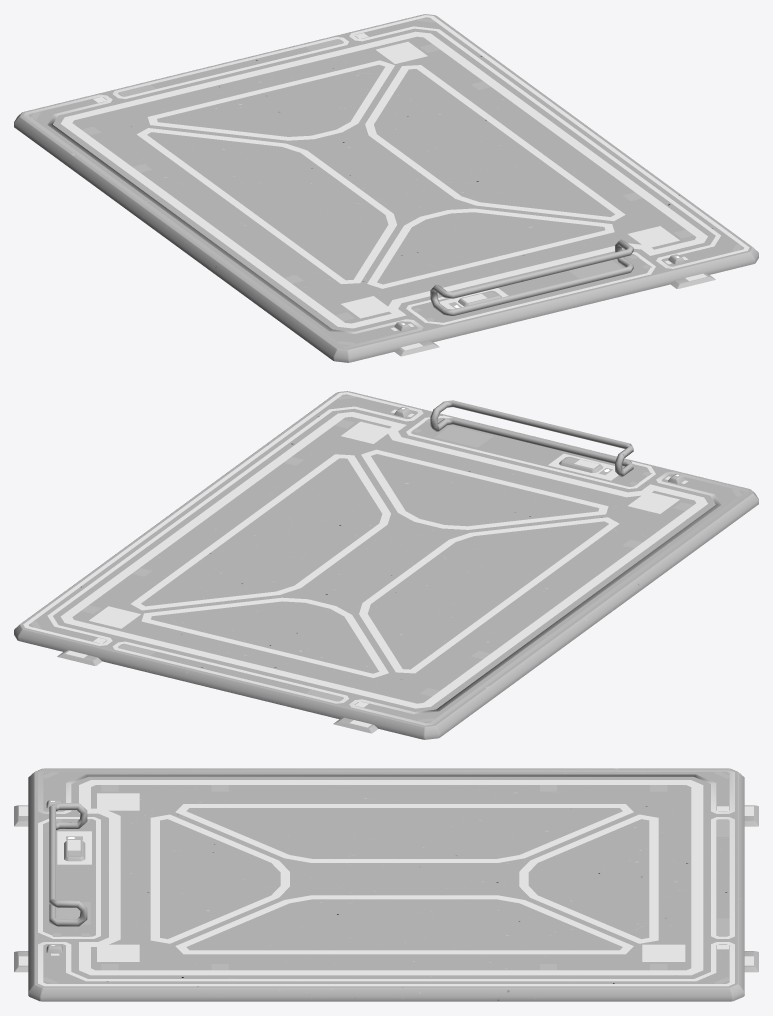
Rendered from SM_WallPanel_1_Merged.fbx.
The picture shows the model from 3 angles, top to bottom: view 1: azimuth 30°, elevation 25°; view 2: azimuth 150°, elevation 25°; view 3: azimuth 270°, elevation 25°; orthographic projection. The views are drawn at different scales.
Parts seen in each view (by area): view 1: SM_WallPanel_1_Merged_LOD0; view 2: SM_WallPanel_1_Merged_LOD0; view 3: SM_WallPanel_1_Merged_LOD0.
Part boxes in pixels (x1,y1,x2,y2): SM_WallPanel_1_Merged_LOD0: (14,14,758,362); SM_WallPanel_1_Merged_LOD0: (14,391,758,739); SM_WallPanel_1_Merged_LOD0: (14,768,758,1001).
Size of the model in its own units: 192 by 269 by 14.91.
